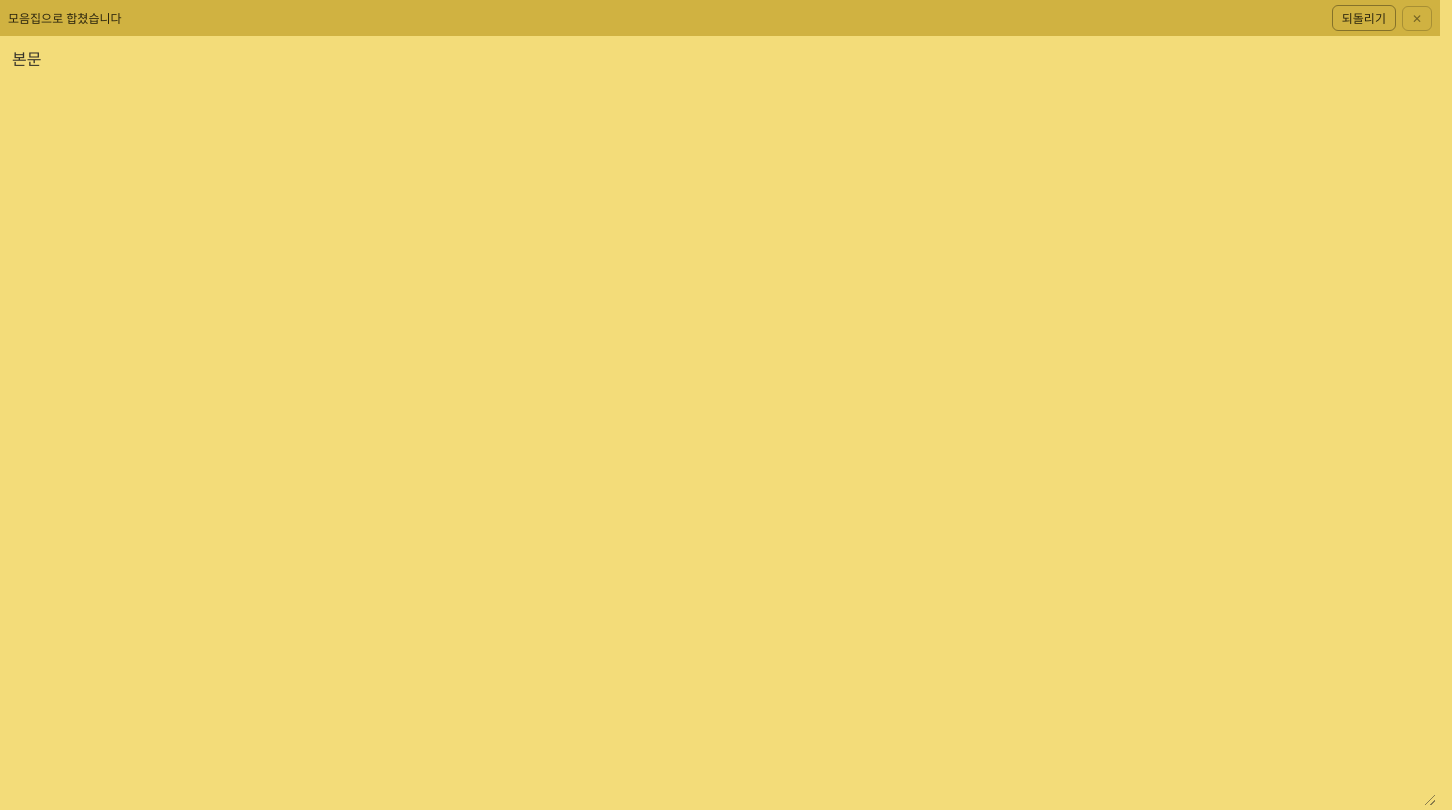
Test: NoteApp 합치기 되돌리기 (#115) › 닫기 버튼으로 즉시 걷을 수 있다
The image size is (1452, 810).
Expected: the text "모음집으로 합쳤습니다 되돌리기 ✕" is shown, top-left (0, 0), bottom-right (1440, 36)
Step 1. Click the button named "안내 닫기" → (1417, 18), box top-left (1402, 6), bottom-right (1432, 30)
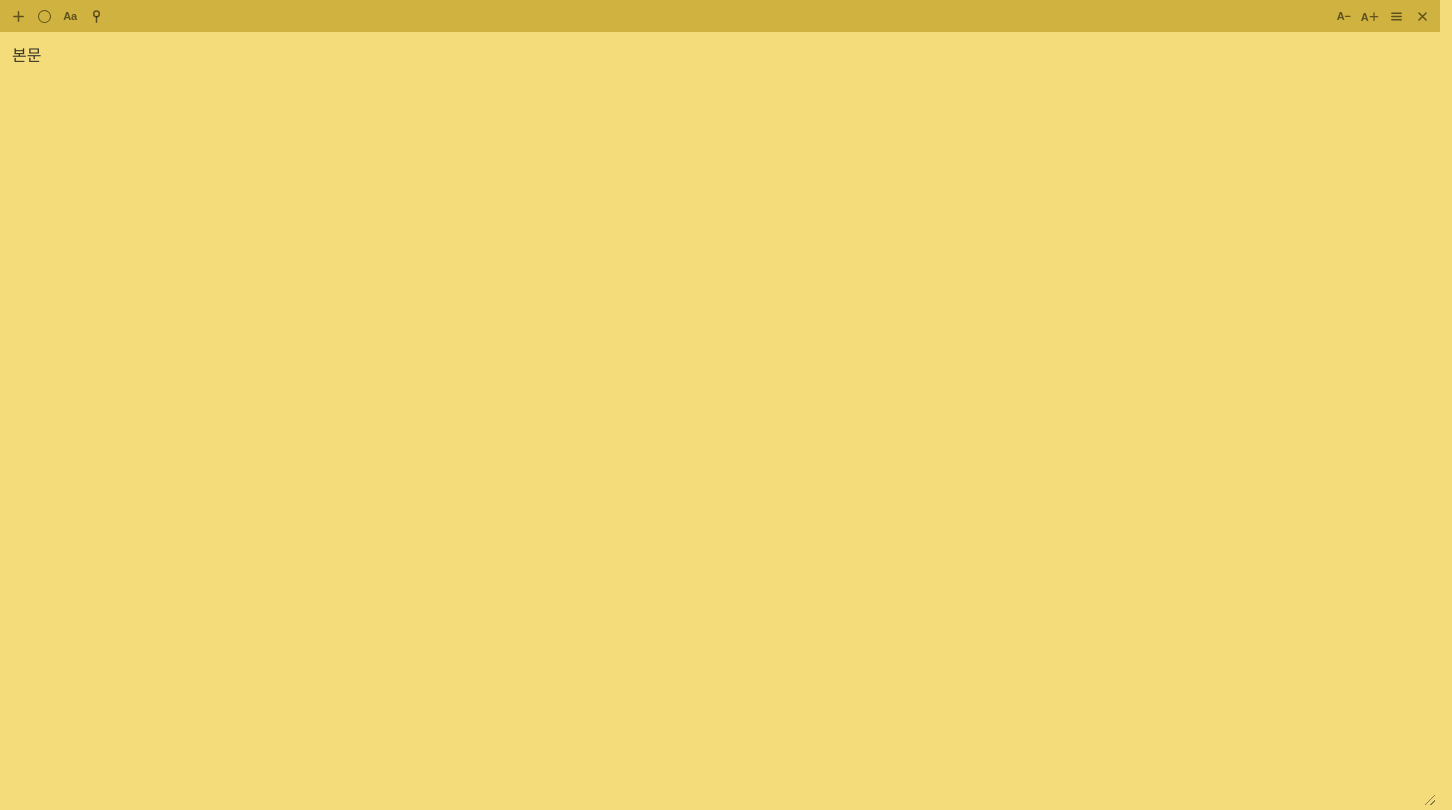
Now the text "합쳤습니다" is gone
